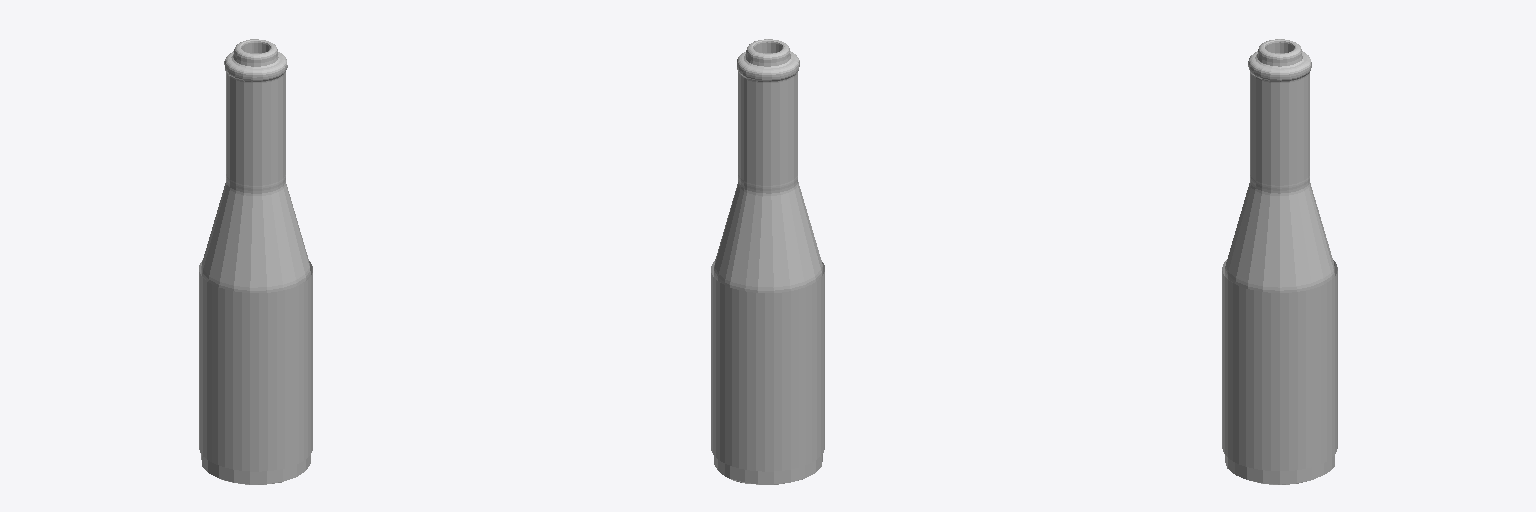
The model's file is WineBottle.obj.
3 views of the same model, side by side, from view 1: azimuth 30°, elevation 25°; view 2: azimuth 150°, elevation 25°; view 3: azimuth 270°, elevation 25° (orthographic).
Visible parts, largest first — view 1: WineBottle_WineBottle; view 2: WineBottle_WineBottle; view 3: WineBottle_WineBottle.
Part boxes in pixels (bbox=[...]): WineBottle_WineBottle: bbox=[199, 39, 312, 484]; WineBottle_WineBottle: bbox=[711, 39, 824, 484]; WineBottle_WineBottle: bbox=[1222, 39, 1337, 484].
Size of the model in its own units: 0.2111 by 0.8545 by 0.2144.